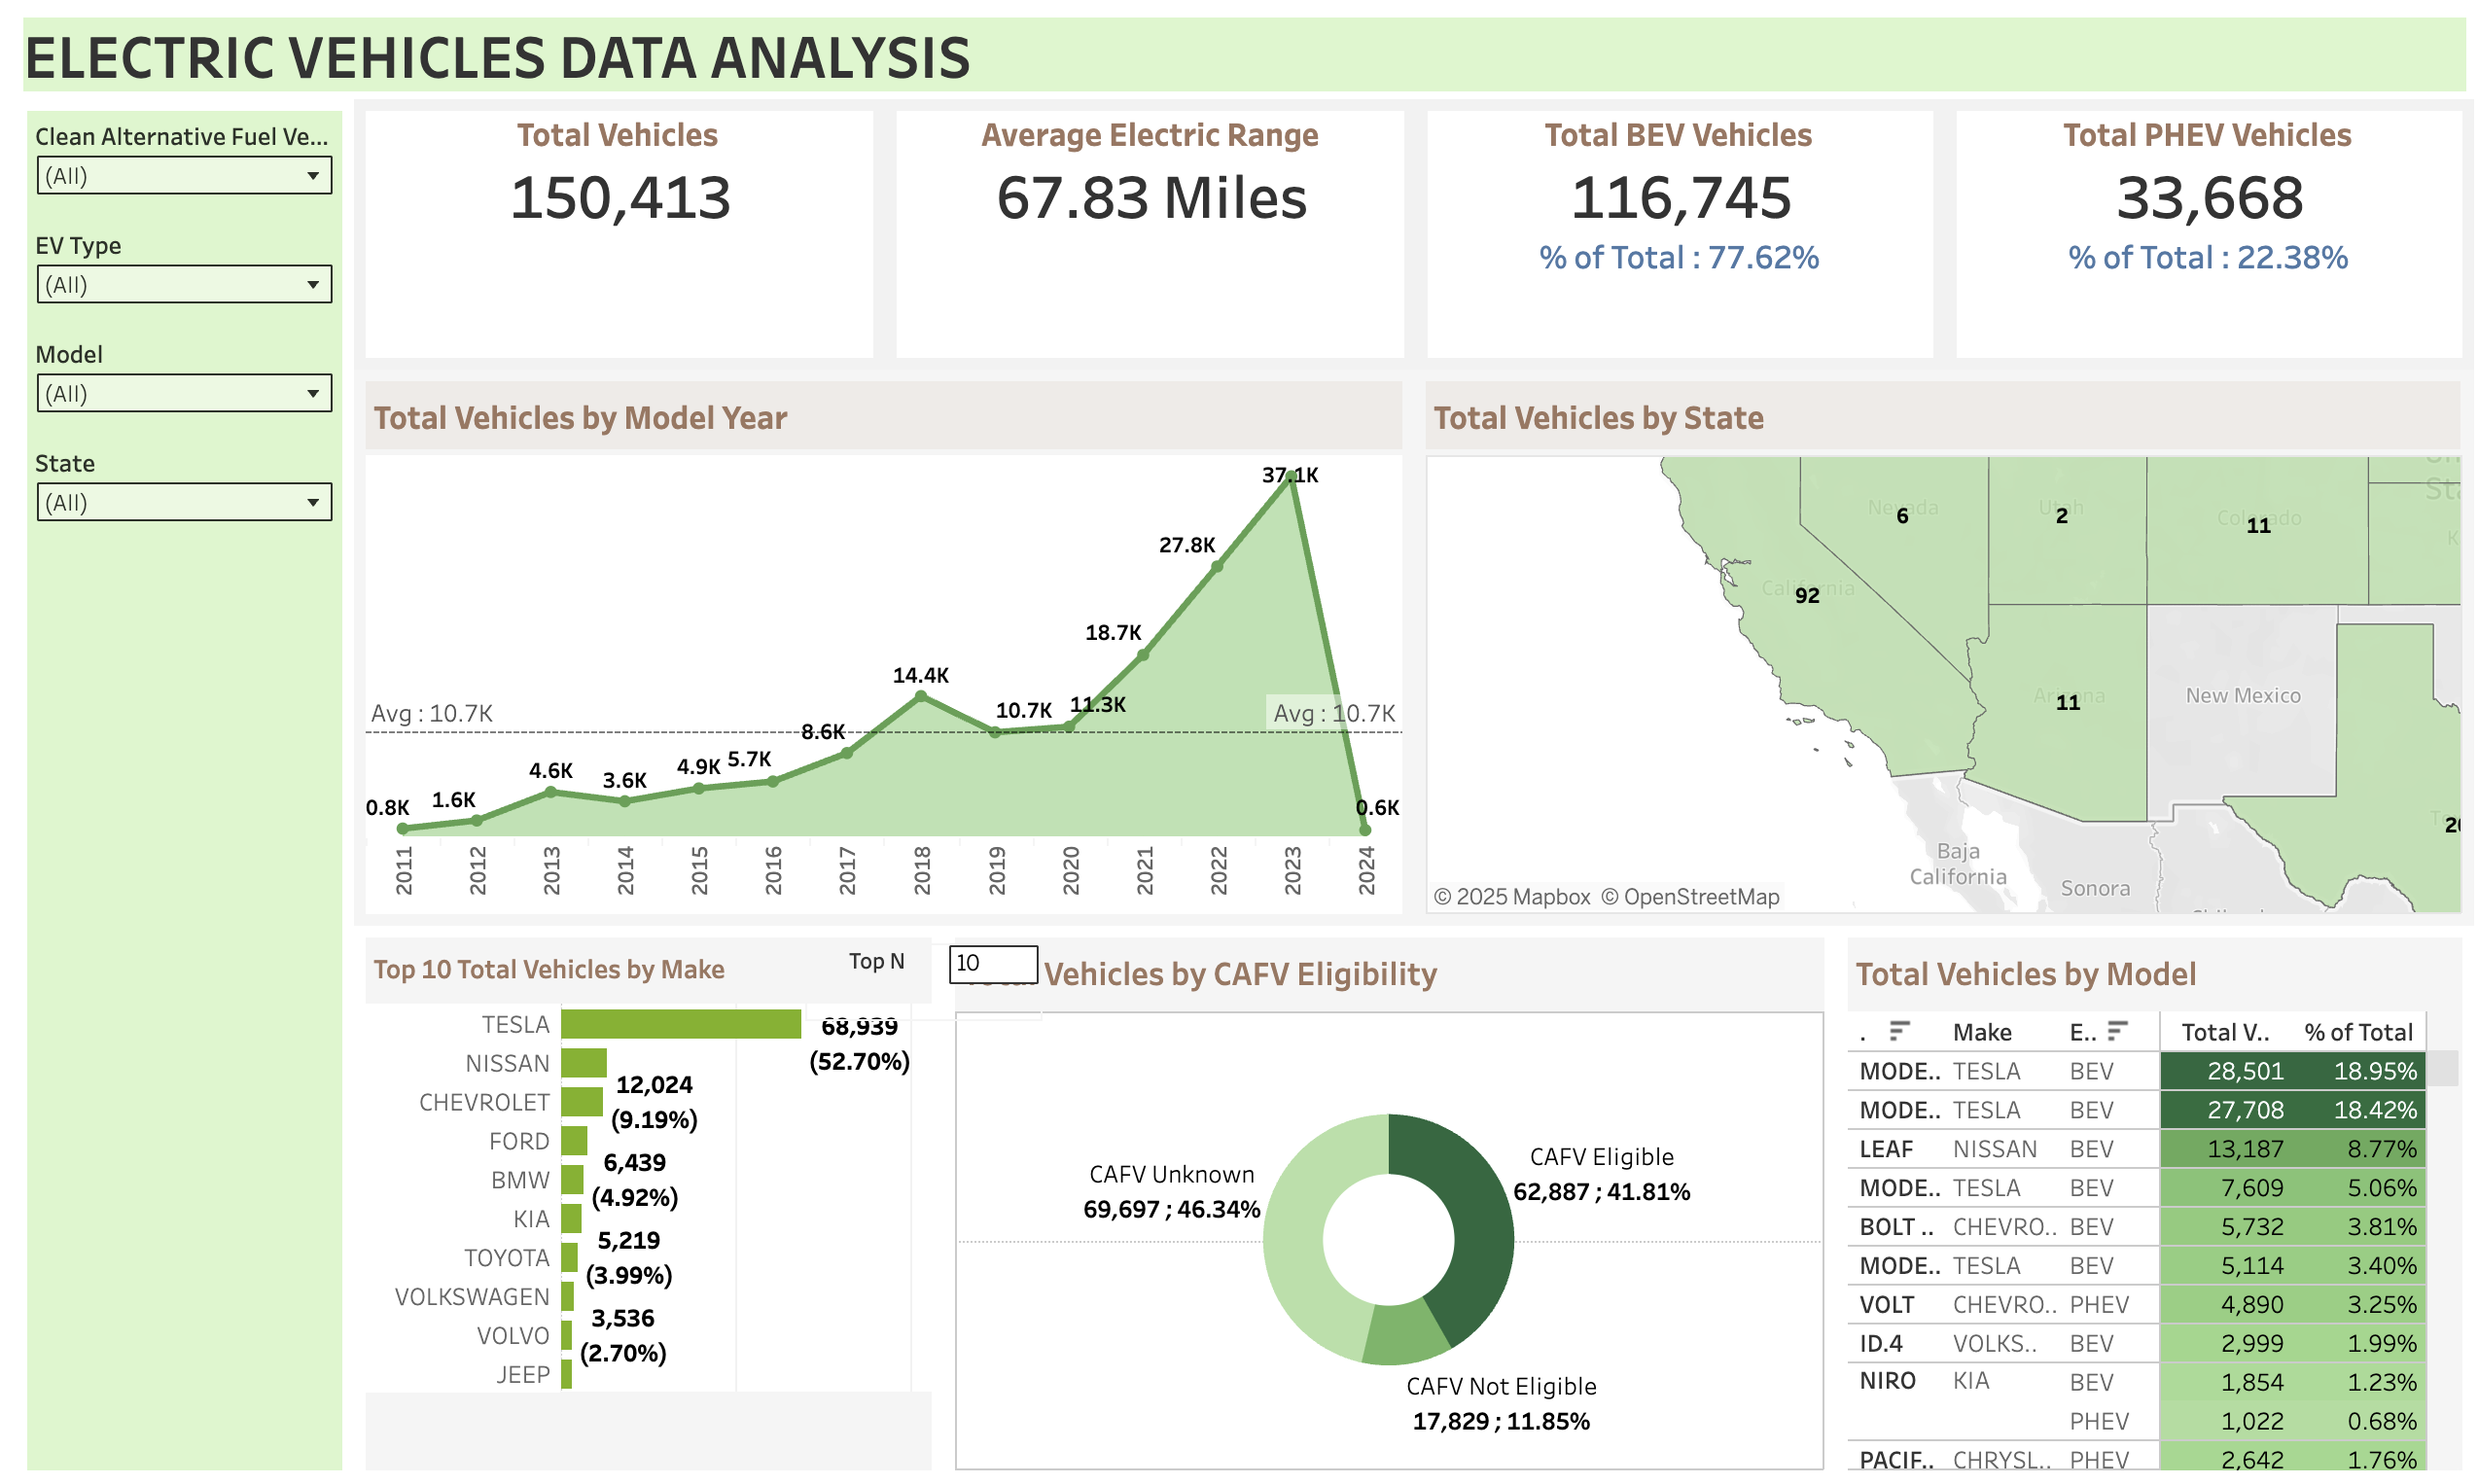

Layout of this report page (visuals, bound fields, positions):
{"tool":"tableau","page":{"name":"Electric Vehicles Data Analysis","canvas":[1000,1000],"units":"permille","ordinal":0},"visuals":[{"type":"title","box":[7.6,13.3,984.8,59.7]},{"type":"worksheet","title":"Total Vehicles","mark":"Automatic","box":[143.3,73.3,212.5,176.7]},{"type":"worksheet","title":"Average Electric Range","mark":"Automatic","box":[355.8,73.3,212.5,176.7]},{"type":"worksheet","title":"Total BEV Vehicles","mark":"Automatic","box":[568.3,73.3,212.5,176.7]},{"type":"worksheet","title":"Total PHEV Vehicles","mark":"Automatic","box":[780.8,73.3,211.6,176.7]},{"type":"filter","title":"Total Vehicles by State","param":"[federated.0nlxzbp1hblmhk1ds16p81e3m9n6].[none:Clean Alternative Fuel Vehicle (C","box":[13.3,83,124.2,86.7]},{"type":"filter","title":"Total Vehicles by State","param":"[federated.0nlxzbp1hblmhk1ds16p81e3m9n6].[none:Electric Vehicle Type:nk]","box":[13.3,169.7,124.2,86.7]},{"type":"worksheet","title":"Total Vehicles by Model Year","mark":"Area","rows":["Calculation_701154183710564352","Calculation_701154183710564352"],"cols":["Model Year"],"box":[143.3,250,425.1,368.3]},{"type":"worksheet","title":"Total Vehicles by State","mark":"Multipolygon","box":[568.3,250,424.1,368.3]},{"type":"filter","title":"Total Vehicles by State","param":"[federated.0nlxzbp1hblmhk1ds16p81e3m9n6].[none:Model:nk]","box":[13.3,256.4,124.2,86.7]},{"type":"filter","title":"Total Vehicles by State","param":"[federated.0nlxzbp1hblmhk1ds16p81e3m9n6].[none:State:nk]","box":[13.3,343,124.2,86.7]},{"type":"worksheet","title":"Top 10 Total Vehicles by Make","mark":"Automatic","rows":["Make"],"cols":["Calculation_701154183710564352"],"box":[143.2,618.7,287.5,368]},{"type":"worksheet","title":"Total Vehicles by CAFV Eligibility","mark":"Pie","rows":["Calculation_791789126238720001","Calculation_791789126238720001"],"box":[430.7,618.7,250.5,368]},{"type":"worksheet","title":"Total Vehicles by Model","mark":"Square","rows":["Model","Make","Electric Vehicle Type"],"box":[681.2,618.7,311.2,368]},{"type":"parameter","param":"[Parameters].[Parameter 1]","box":[323.7,631.7,95.4,50.9]}]}

Visuals, with their boxes on the dashboard's canvas, which has no fixed pixel size, in thousandths of its width and height (x1, y1, x2, y2). These are canvas units, not pixel positions in the 2478x1484 screenshot, which may show the page scaled, cropped or inside an application window:
title: {"left": 8, "top": 13, "right": 992, "bottom": 73}
"Total Vehicles" worksheet: {"left": 143, "top": 73, "right": 356, "bottom": 250}
"Average Electric Range" worksheet: {"left": 356, "top": 73, "right": 568, "bottom": 250}
"Total BEV Vehicles" worksheet: {"left": 568, "top": 73, "right": 781, "bottom": 250}
"Total PHEV Vehicles" worksheet: {"left": 781, "top": 73, "right": 992, "bottom": 250}
"Total Vehicles by State" filter: {"left": 13, "top": 83, "right": 138, "bottom": 170}
"Total Vehicles by State" filter: {"left": 13, "top": 170, "right": 138, "bottom": 256}
"Total Vehicles by Model Year" worksheet (Area marks): {"left": 143, "top": 250, "right": 568, "bottom": 618}
"Total Vehicles by State" worksheet (Multipolygon marks): {"left": 568, "top": 250, "right": 992, "bottom": 618}
"Total Vehicles by State" filter: {"left": 13, "top": 256, "right": 138, "bottom": 343}
"Total Vehicles by State" filter: {"left": 13, "top": 343, "right": 138, "bottom": 430}
"Top 10 Total Vehicles by Make" worksheet: {"left": 143, "top": 619, "right": 431, "bottom": 987}
"Total Vehicles by CAFV Eligibility" worksheet (Pie marks): {"left": 431, "top": 619, "right": 681, "bottom": 987}
"Total Vehicles by Model" worksheet (Square marks): {"left": 681, "top": 619, "right": 992, "bottom": 987}
parameter: {"left": 324, "top": 632, "right": 419, "bottom": 683}
